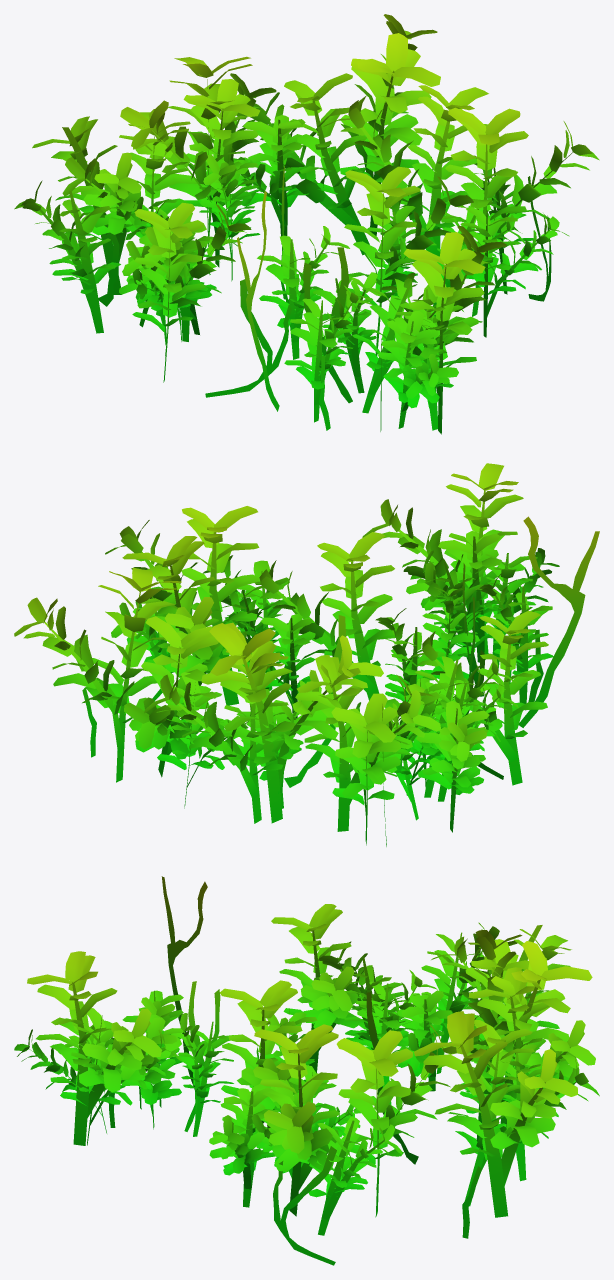
The model's file is Lingonberry_LOD2_Var14.fbx.
3 renders of one model, top to bottom at view 1: azimuth 30°, elevation 25°; view 2: azimuth 150°, elevation 25°; view 3: azimuth 270°, elevation 25°, orthographic. The views are drawn at different scales.
Visible parts, largest first — view 1: _i3kf_Var14_LOD2; view 2: _i3kf_Var14_LOD2; view 3: _i3kf_Var14_LOD2.
Boxes of the visible parts, x1,y1,x2,y2 form: _i3kf_Var14_LOD2: (14, 14, 599, 434); _i3kf_Var14_LOD2: (14, 463, 599, 846); _i3kf_Var14_LOD2: (14, 876, 599, 1265).
Bounding box in the file's own units: 39.94 × 18.8 × 43.63.
